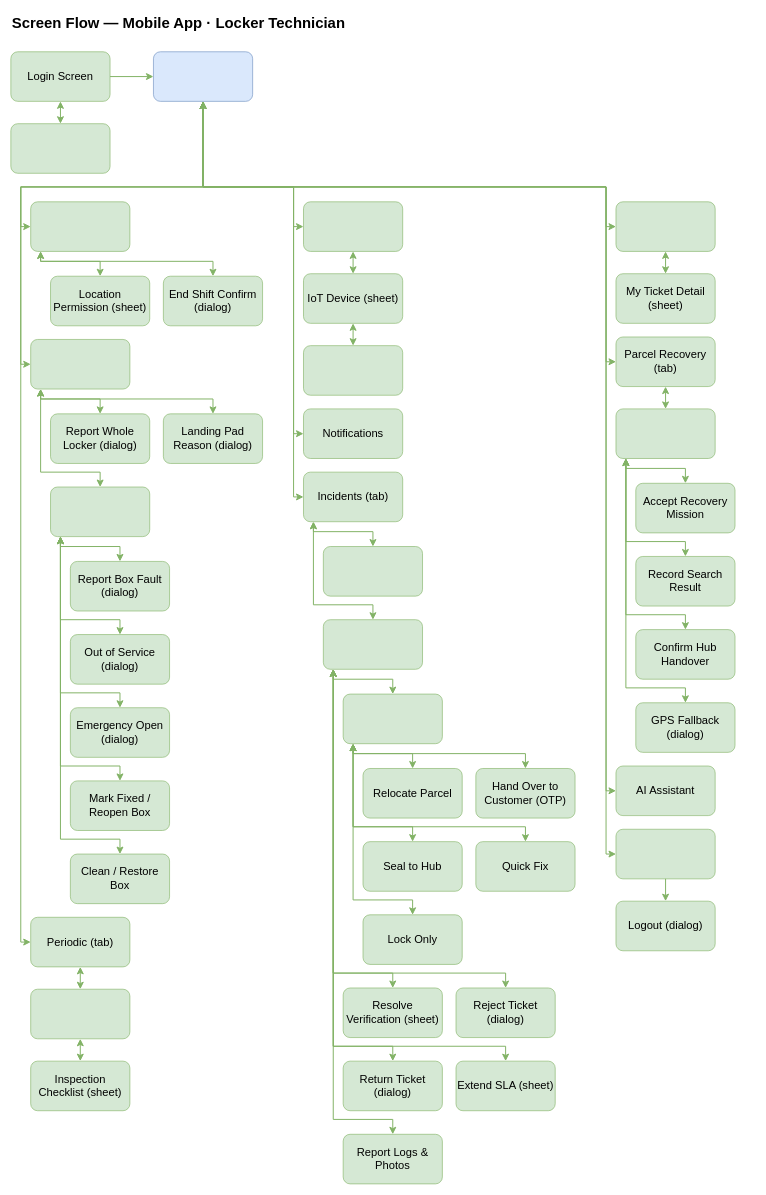
Some shapes in this 766 by 1195 pixel diagram are drawn without their labels. The centre of each missing label's shape, as x and y in pixels:
Box Incident Resolution (sheet): point 392,718
Cell Actions (sheet): point 100,511
Change Device Status (dialog): point 353,370
Claim Ticket (dialog): point 373,571
Forgot Password: point 60,148
IoT Devices (tab): point 353,226
Locker Check (tab): point 80,364
My Tasks (tab): point 665,226
Recovery Detail (sheet): point 665,433
Schedule Detail (sheet): point 80,1014
Shift Card (Start / End): point 80,226
Technician Home: point 203,76
Technician Profile: point 665,854
Ticket Detail (sheet): point 373,644
